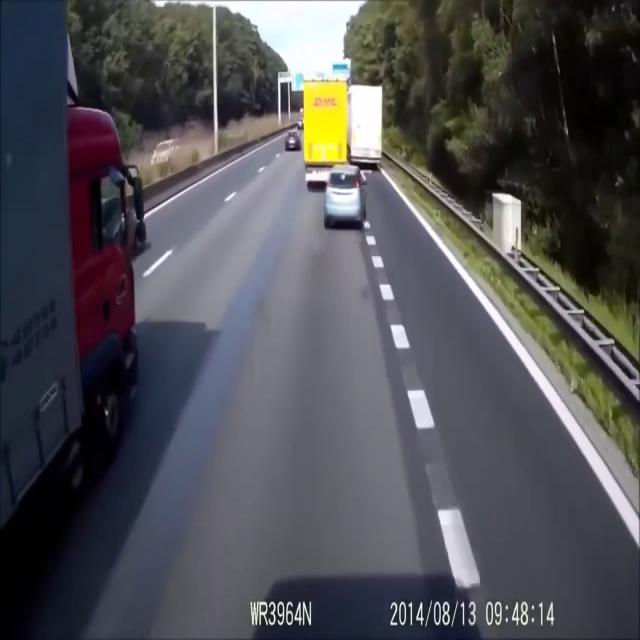normal: (74, 49, 164, 607), (321, 161, 368, 230)
